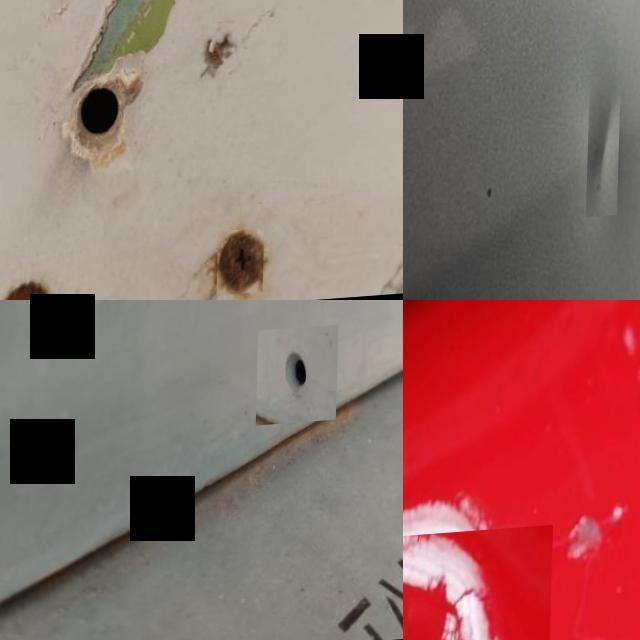Crack: (403, 531, 555, 640)
Dent: (589, 82, 621, 222)
Missing_Fastener: (258, 332, 340, 431), (220, 236, 267, 300), (80, 90, 131, 146), (7, 282, 59, 300)
